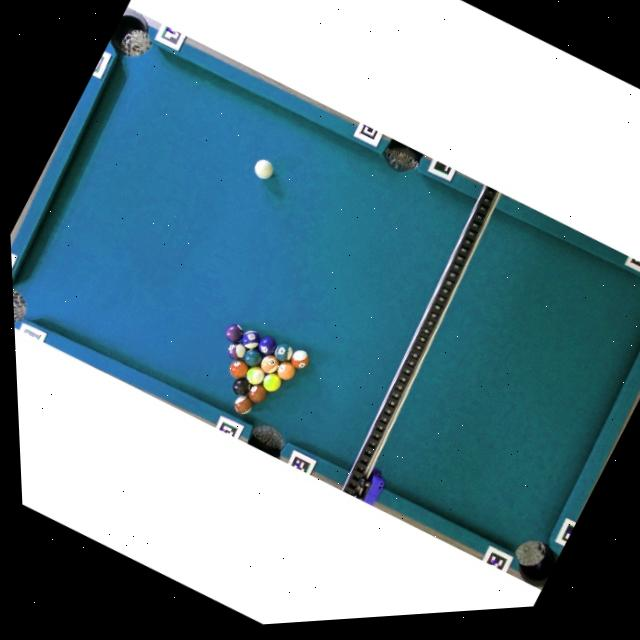cue ball: (250, 155, 277, 183)
other: (230, 391, 257, 419), (244, 380, 271, 407), (255, 332, 281, 360), (259, 369, 285, 396), (237, 327, 263, 354), (270, 339, 296, 366), (287, 346, 313, 373), (225, 356, 251, 383), (256, 352, 282, 378), (272, 358, 298, 384), (221, 320, 247, 346), (229, 374, 255, 400), (242, 363, 268, 389), (240, 346, 265, 371), (224, 339, 249, 364)
